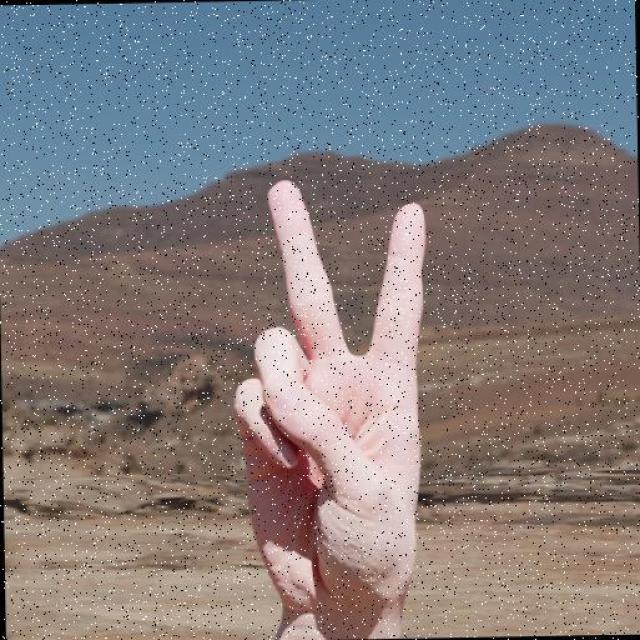V: (217, 168, 439, 618)
